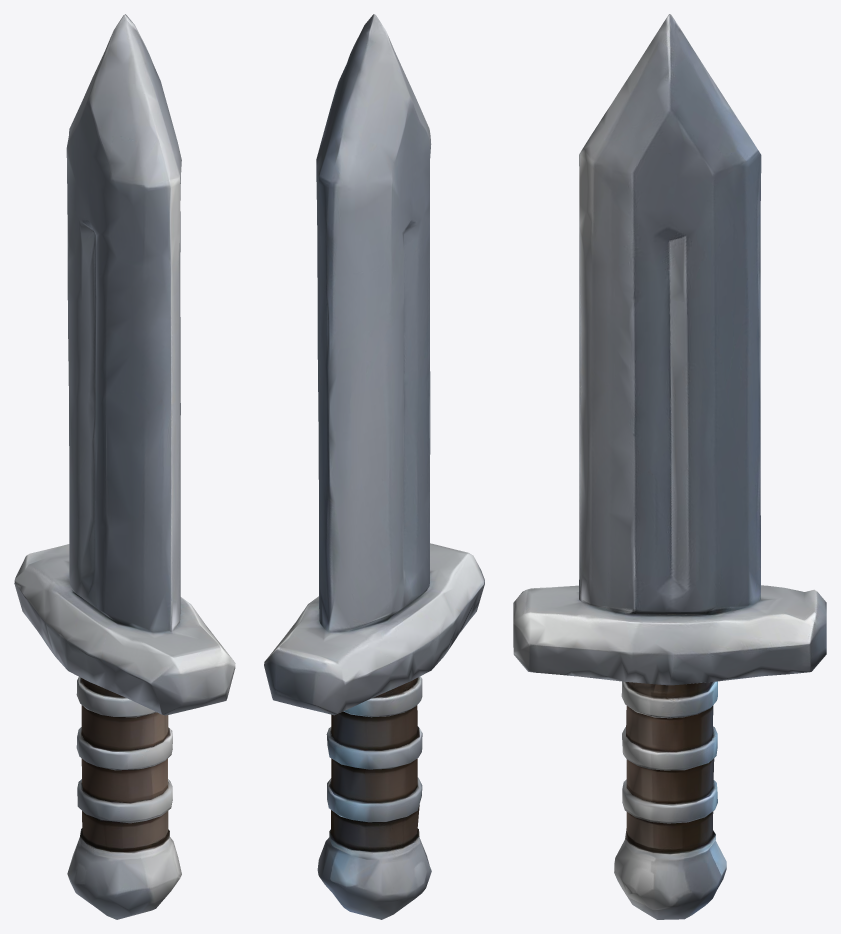
File: w_iron--dagger.glb
3 views of the same model, side by side, from view 1: azimuth 30°, elevation 25°; view 2: azimuth 150°, elevation 25°; view 3: azimuth 270°, elevation 25° (orthographic).
Parts seen in each view (by area): view 1: Weapon; view 2: Weapon; view 3: Weapon.
Boxes of the visible parts, left/top/right/bottom form: Weapon: left=14, top=14, right=235, bottom=919; Weapon: left=264, top=14, right=484, bottom=919; Weapon: left=513, top=14, right=826, bottom=919.
Bounding box in the file's own units: 0.1423 × 0.9819 × 0.3104.
Materials: 1 (1 with a texture image).
